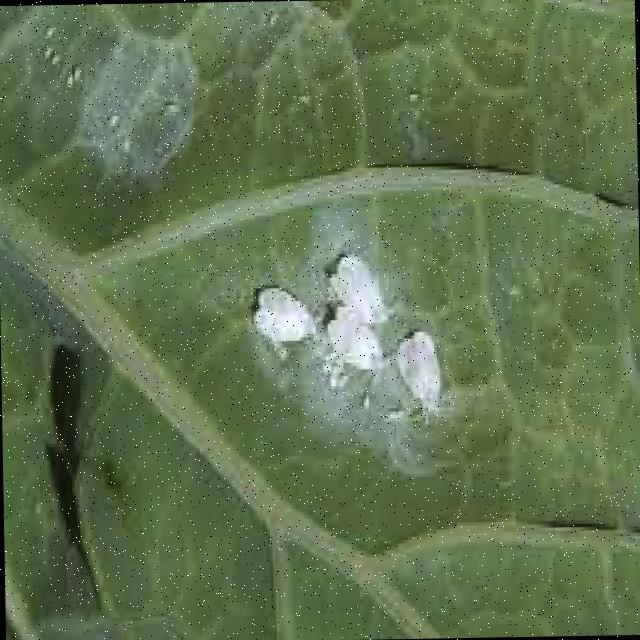whitefly: (25, 0, 430, 206), (240, 225, 481, 439)
